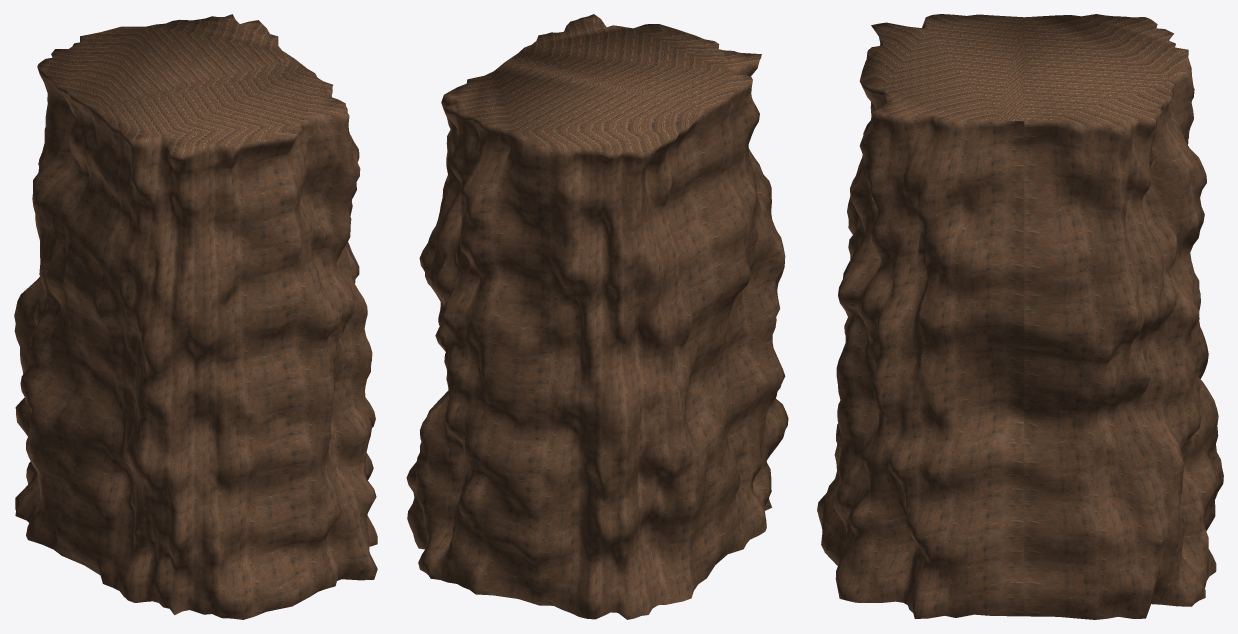
File: CliffCore.fbx
3 views of the same model, side by side, from view 1: azimuth 30°, elevation 25°; view 2: azimuth 150°, elevation 25°; view 3: azimuth 270°, elevation 25° (orthographic). The views are drawn at different scales.
Visible parts, largest first — view 1: CliffCore.001; view 2: CliffCore.001; view 3: CliffCore.001.
Part boxes in pixels (x1,y1,x2,y2): CliffCore.001: (14,14,377,619); CliffCore.001: (406,14,788,619); CliffCore.001: (817,14,1223,619).
Bounding box in the file's own units: 52.34 × 64.26 × 84.
